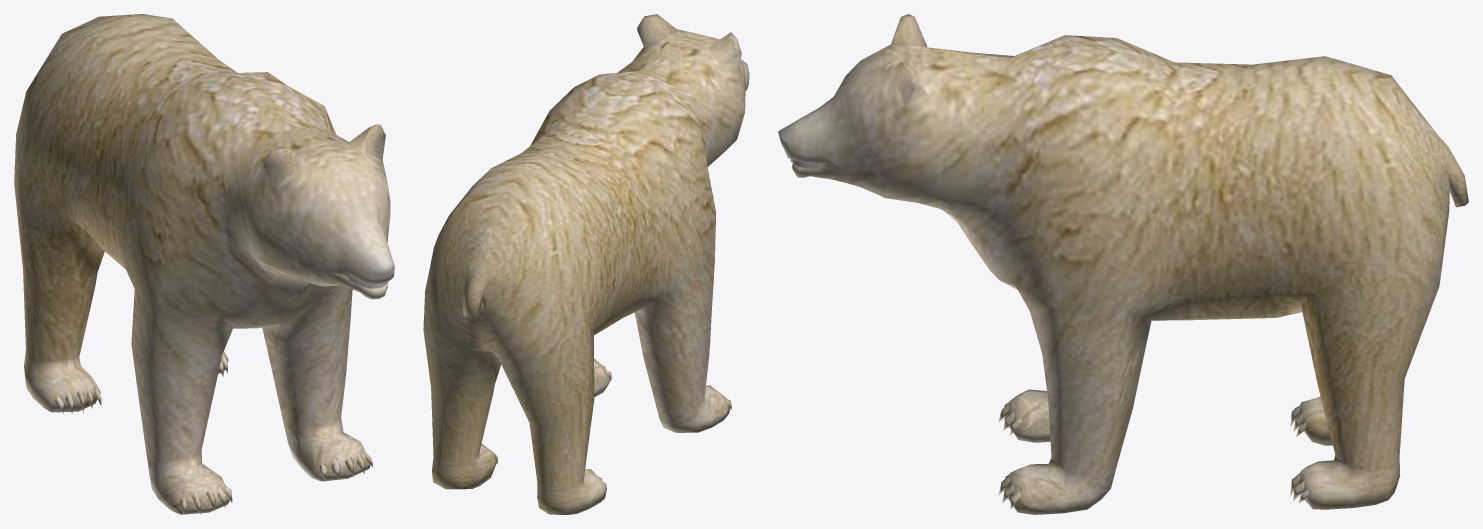
The model's file is bear-obj.obj.
3 views of the same model, side by side, from view 1: azimuth 30°, elevation 25°; view 2: azimuth 150°, elevation 25°; view 3: azimuth 270°, elevation 25° (orthographic). The views are drawn at different scales.
Visible parts, largest first — view 1: bear____N; view 2: bear____N; view 3: bear____N.
Part boxes in pixels (x1,y1,x2,y2): bear____N: (14, 14, 394, 514); bear____N: (423, 14, 749, 514); bear____N: (778, 14, 1468, 514).
Size of the model in its own units: 10.24 by 19.71 by 28.84.
